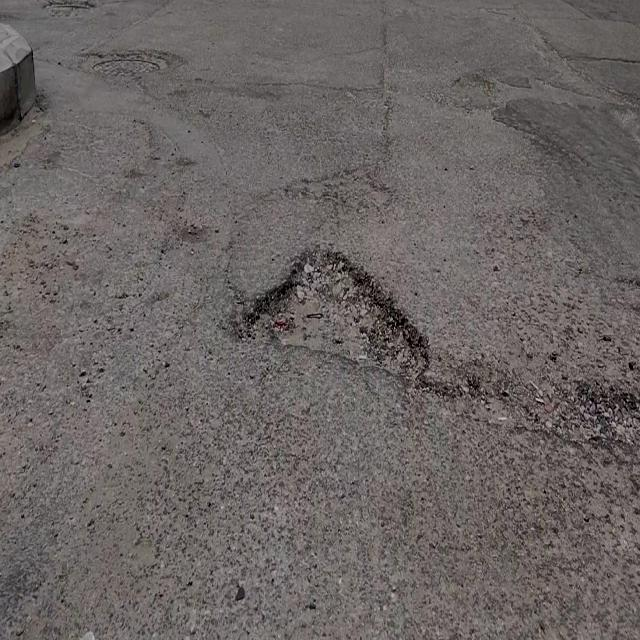Potholes: (237, 242, 431, 389)
